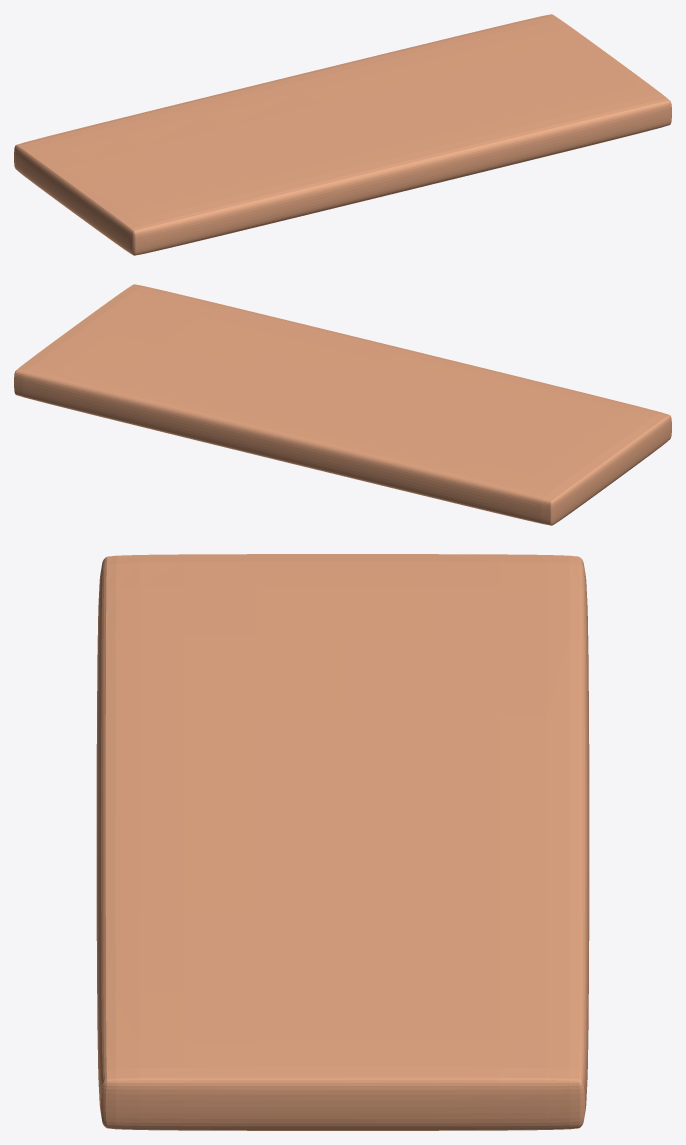
File: Level3-Base-Orange.fbx
The picture shows the model from 3 angles, top to bottom: view 1: azimuth 30°, elevation 25°; view 2: azimuth 150°, elevation 25°; view 3: azimuth 270°, elevation 25°; orthographic projection. The views are drawn at different scales.
Parts seen in each view (by area): view 1: pCube1; view 2: pCube1; view 3: pCube1.
Boxes of the visible parts, bbox=[...] form: pCube1: bbox=[14, 14, 671, 255]; pCube1: bbox=[14, 284, 671, 525]; pCube1: bbox=[96, 554, 589, 1130].
Size of the model in its own units: 12.99 by 0.6936 by 5.11.
